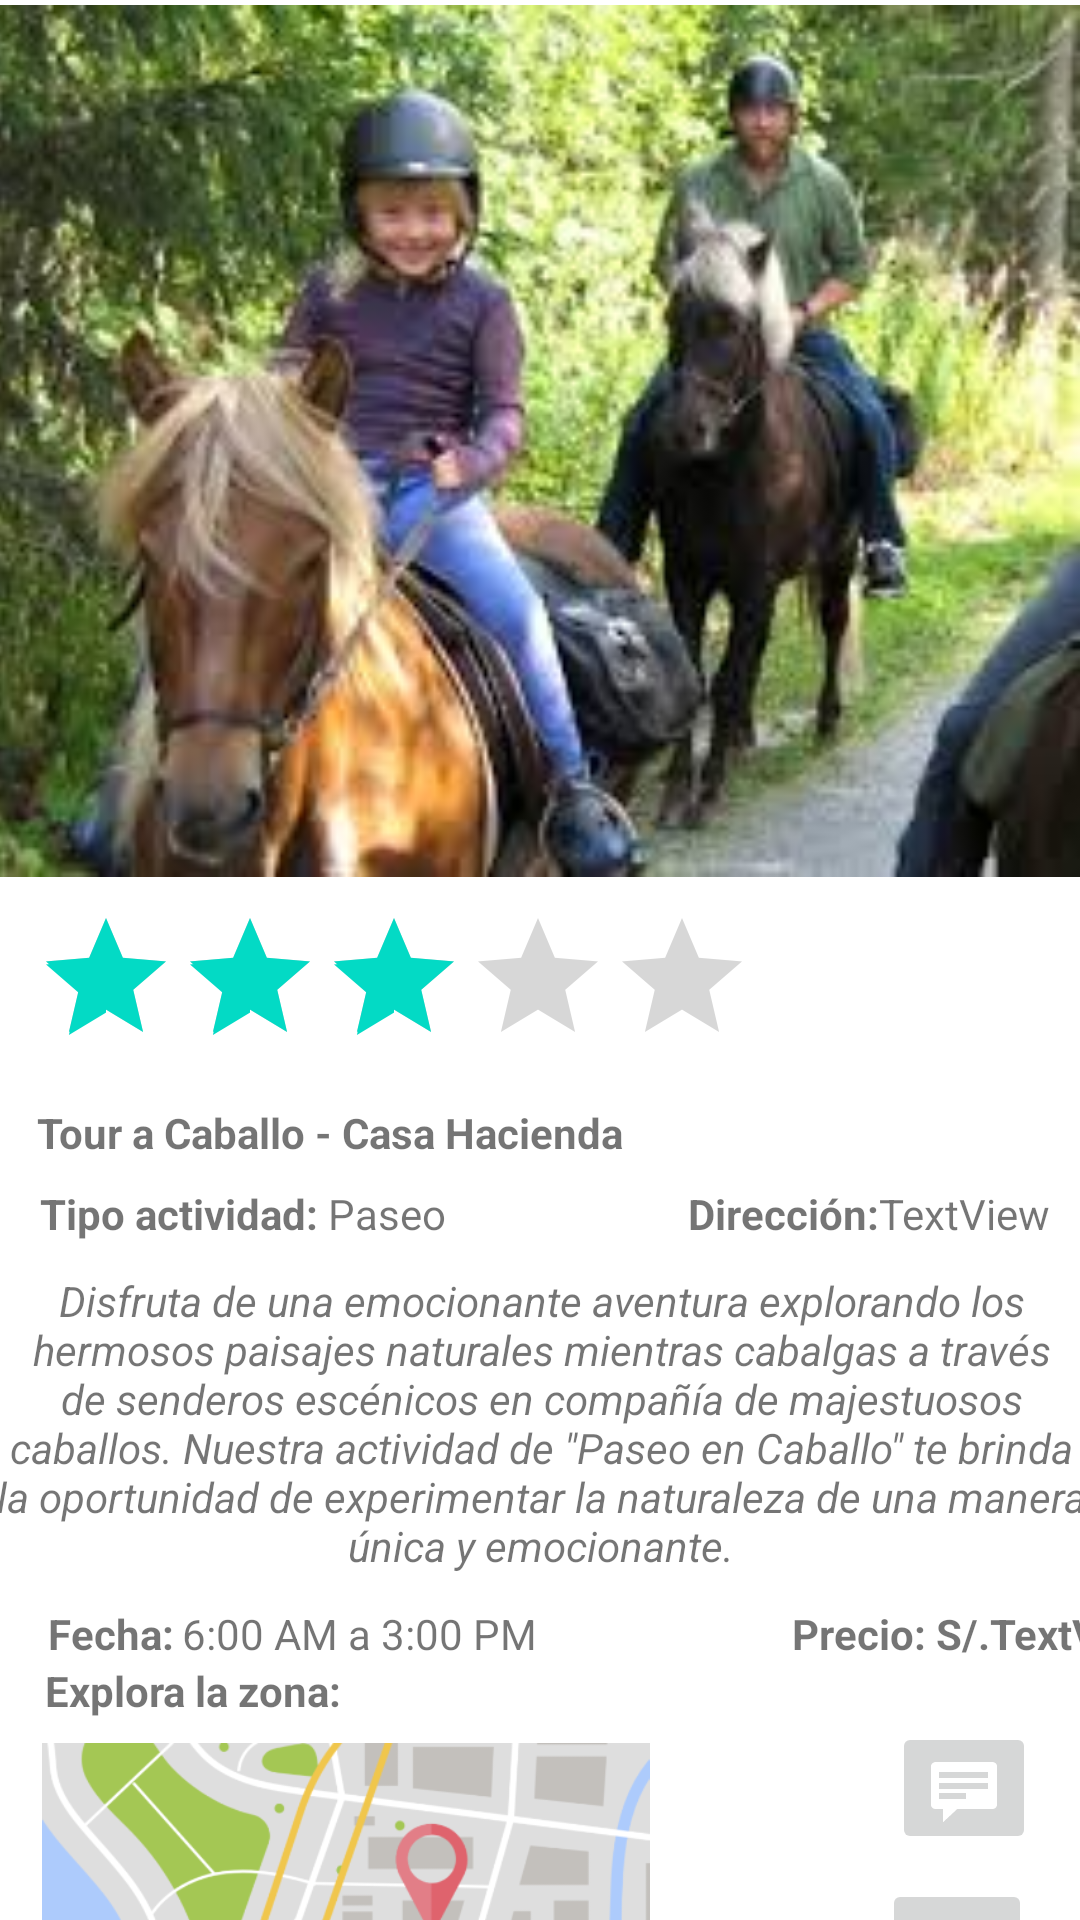

Screen size 1080*1920. Icon name, then its center in pixels as (x,y):
chat: (964,1788)
